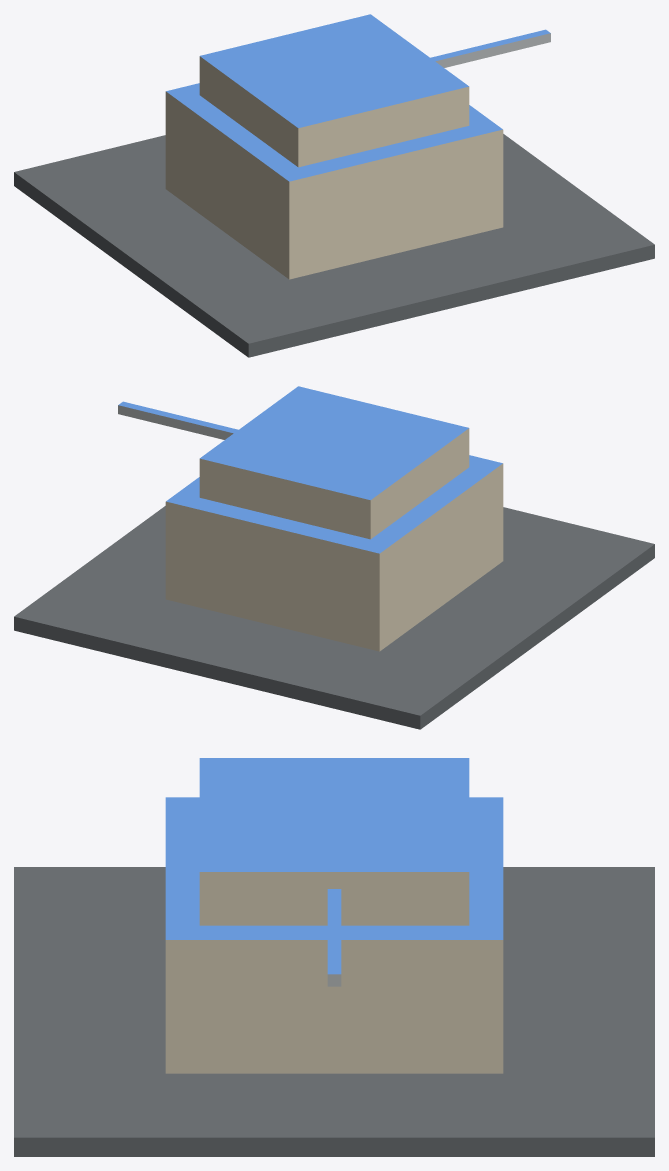
The model's file is meridian_advanced_defences.glb.
3 renders of one model, top to bottom at view 1: azimuth 30°, elevation 25°; view 2: azimuth 150°, elevation 25°; view 3: azimuth 270°, elevation 25°, orthographic. The views are drawn at different scales.
Parts seen in each view (by area): view 1: hull, turret, barrel; view 2: hull, turret, barrel; view 3: hull, turret, barrel.
Boxes of the visible parts, x1=… form: hull: x1=14, y1=83, x2=654, y2=357; turret: x1=199, y1=14, x2=469, y2=167; barrel: x1=430, y1=29, x2=550, y2=67; hull: x1=14, y1=455, x2=654, y2=729; turret: x1=199, y1=386, x2=469, y2=539; barrel: x1=118, y1=401, x2=238, y2=439; hull: x1=14, y1=797, x2=654, y2=1156; turret: x1=199, y1=758, x2=469, y2=925; barrel: x1=327, y1=889, x2=341, y2=986.
Bounding box in the file's own units: 7.8 × 2.7 × 7.6.
